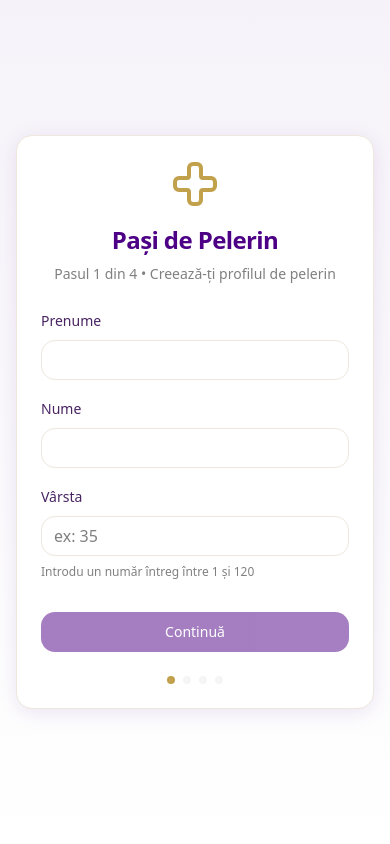
Scenario: Onboarding Flow - UI Integration › navigates back from step 2 to step 1
Go to step 2
Type "Ion" into the field labelled "Prenume" at [195, 360], box 41,340 -> 349,380
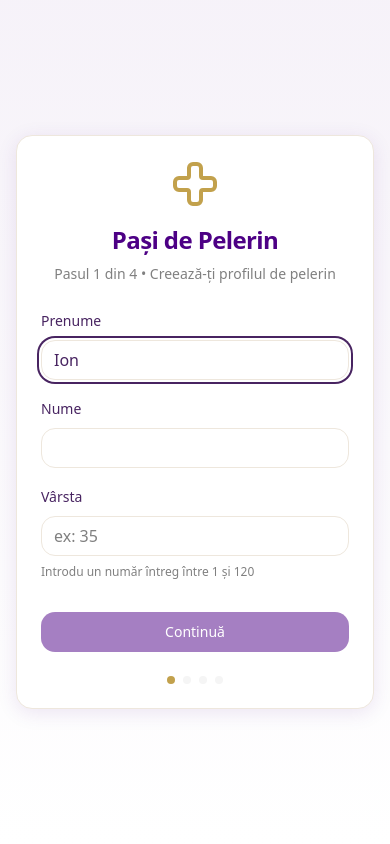
Type "Popescu" into the field labelled "Nume" at [195, 448], box 41,428 -> 349,468
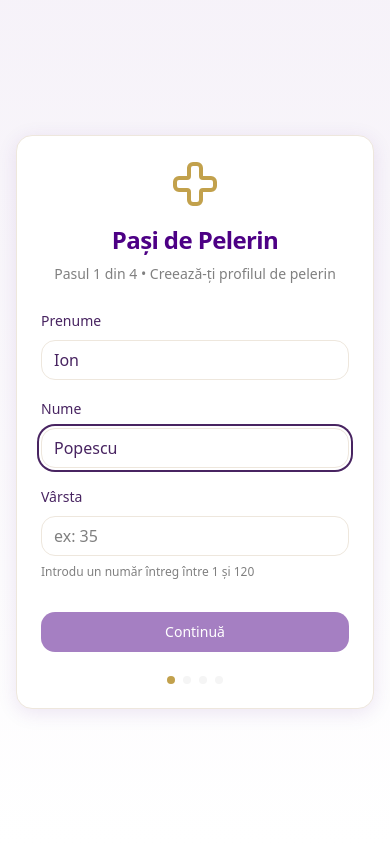
Type "30" into the field labelled "Vârsta" at [195, 536], box 41,516 -> 349,556
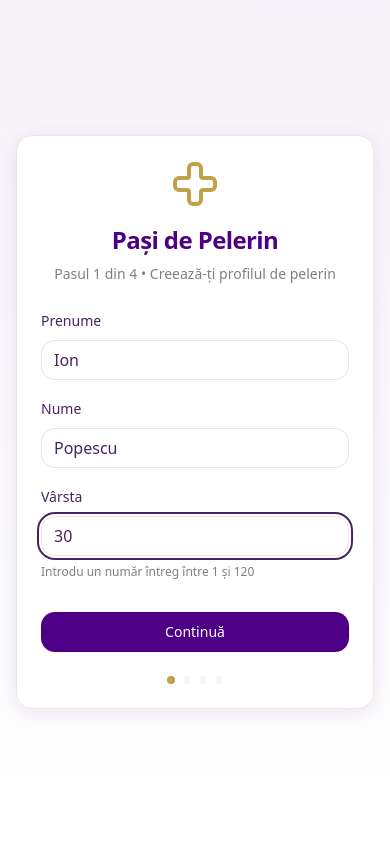
Click the button "Continuă" at [195, 632], box 41,612 -> 349,652
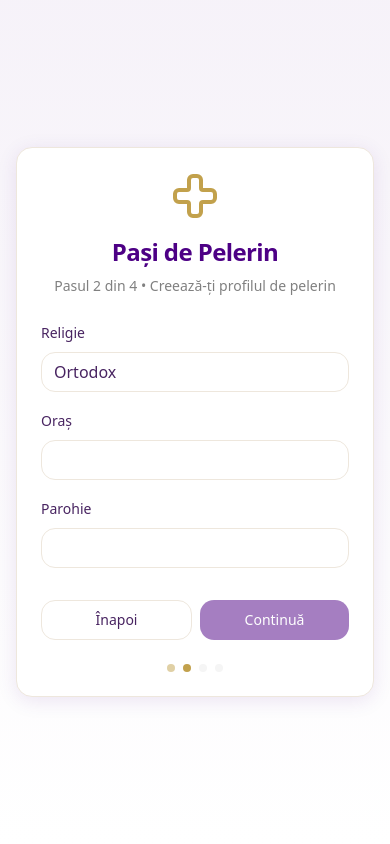
 Go back
Click the button "Înapoi" at [116, 620], box 41,600 -> 192,640
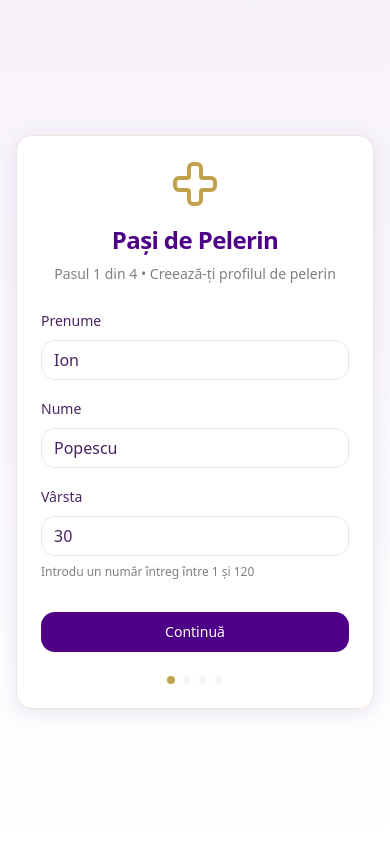
Check: the field labelled "Prenume" is shown, box 41,340 -> 349,380
